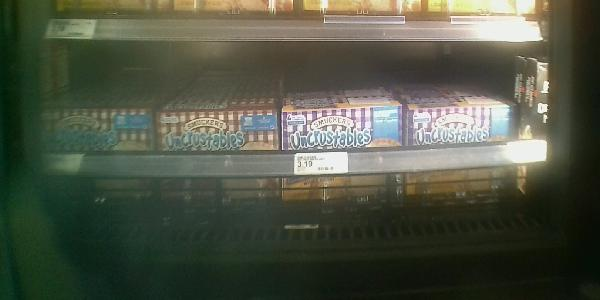icecream: (30, 104, 164, 157), (154, 105, 282, 159), (282, 106, 406, 156), (401, 101, 520, 152)
